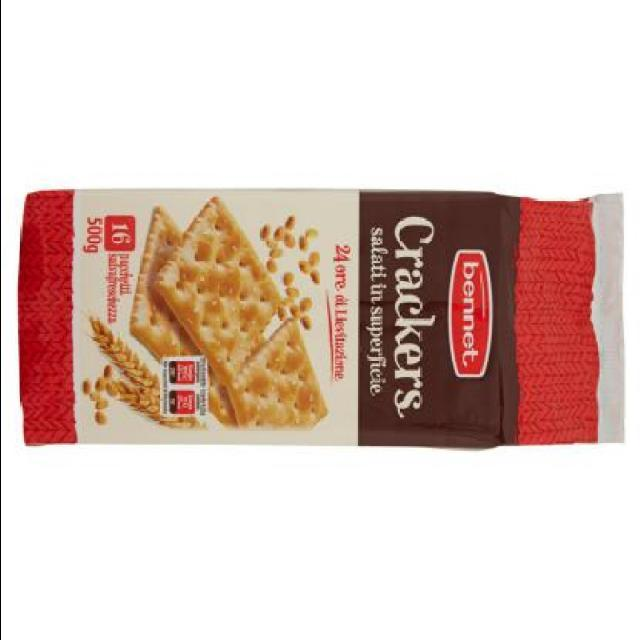Cracker: (17, 176, 597, 464)
